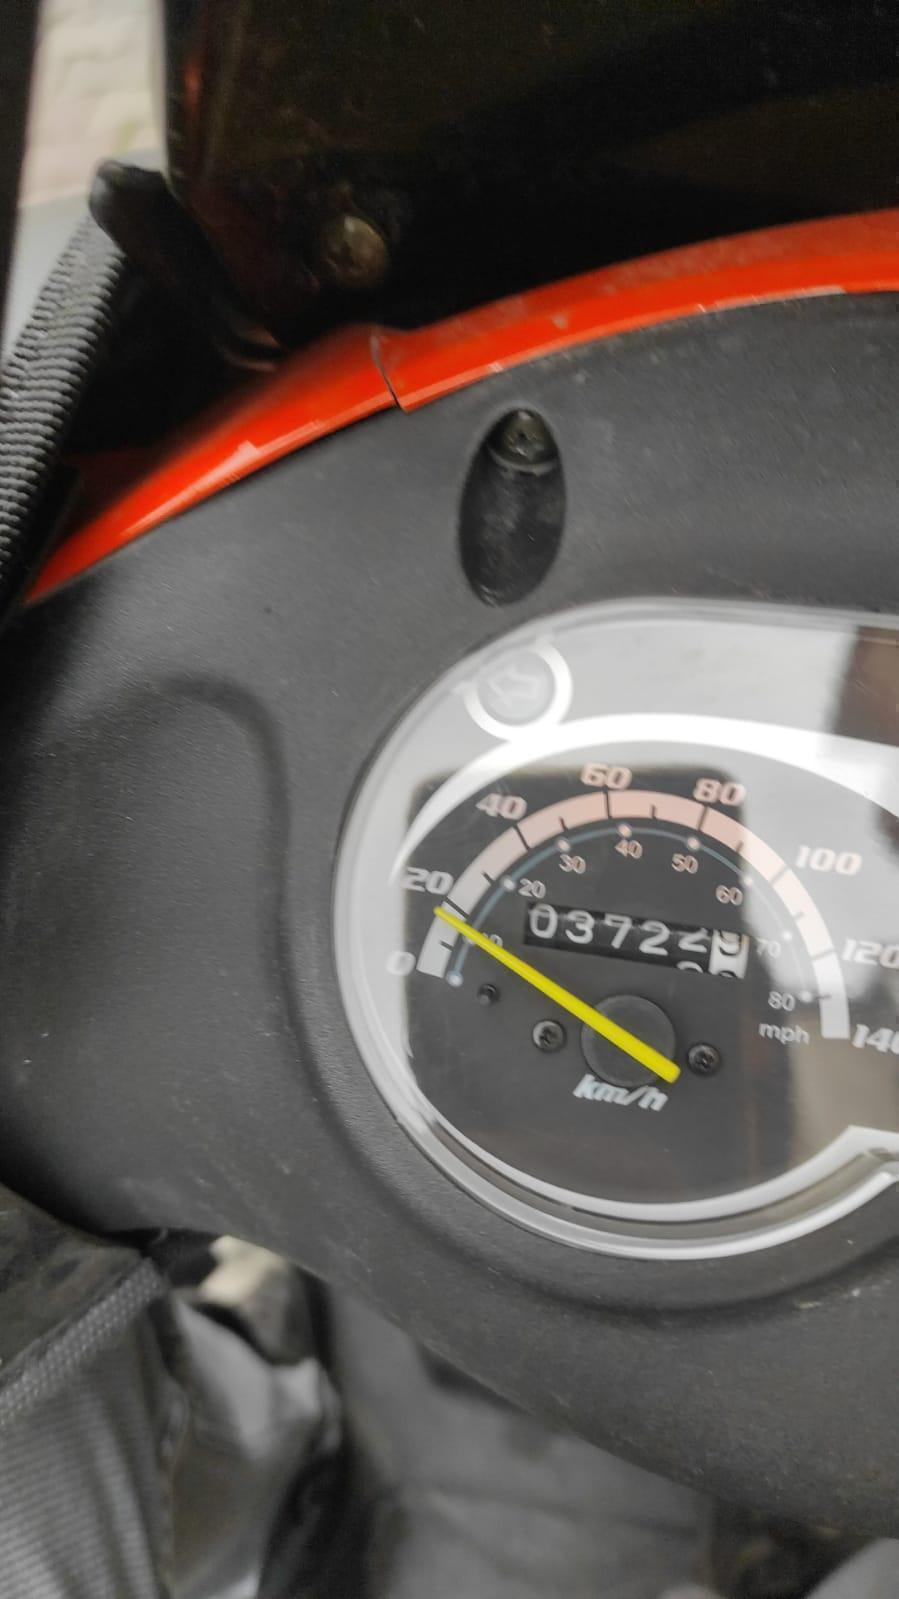0: (527, 903, 559, 940)
2: (638, 916, 672, 958), (681, 918, 711, 954)
3: (561, 903, 597, 946)
7: (602, 907, 632, 948)
9: (717, 924, 746, 959)
odometer: (519, 899, 753, 983)
